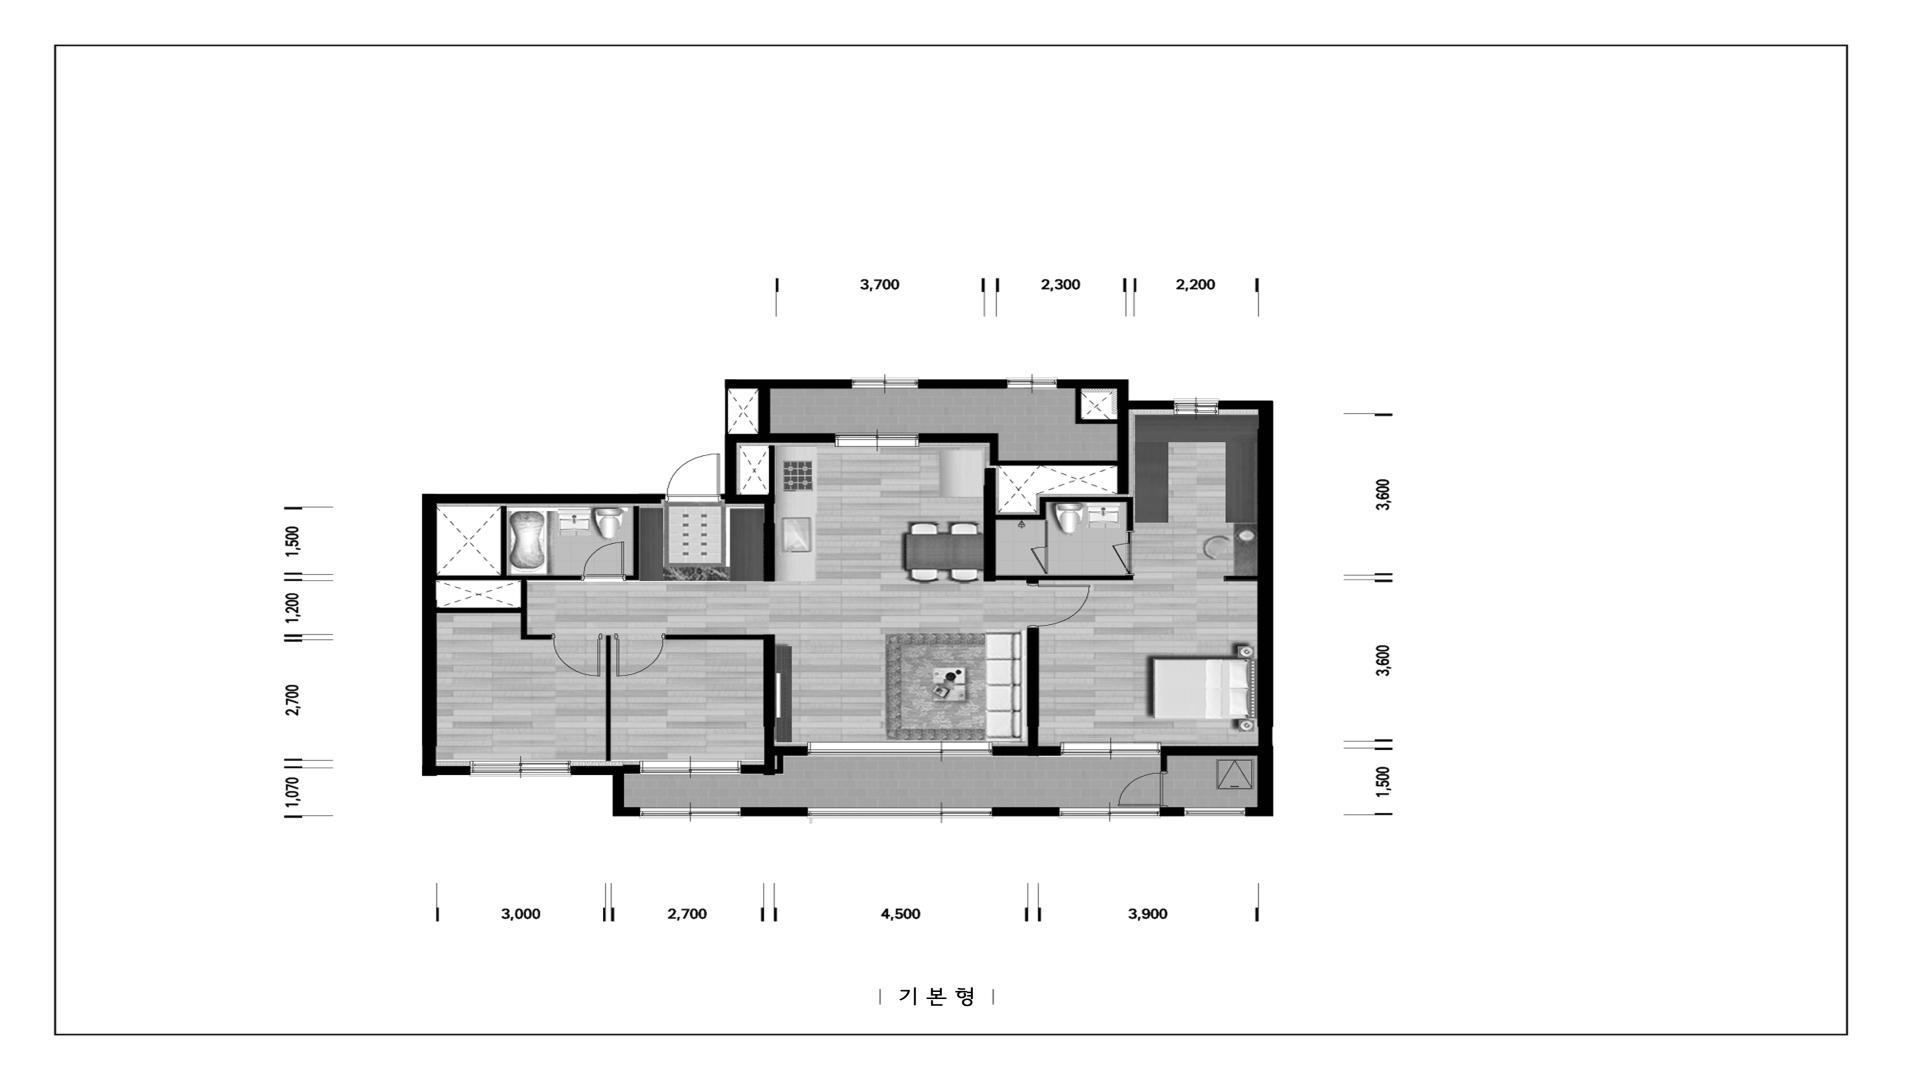door: (1027, 583, 1091, 628), (665, 454, 721, 501), (551, 633, 607, 676), (611, 633, 665, 676), (1117, 771, 1167, 807), (582, 542, 626, 582), (1112, 543, 1134, 575), (1031, 546, 1048, 574)
wall: (422, 493, 665, 775), (1218, 401, 1274, 816), (721, 380, 852, 504), (665, 634, 775, 746), (919, 433, 1117, 465), (996, 497, 1133, 543), (571, 765, 640, 816), (1058, 380, 1174, 409), (436, 580, 527, 613), (1160, 746, 1258, 771), (736, 446, 775, 504), (741, 746, 807, 775), (1075, 388, 1117, 425), (1027, 628, 1039, 746), (984, 468, 996, 582), (996, 575, 1134, 583), (1117, 409, 1129, 495), (626, 506, 640, 580), (918, 378, 1006, 389), (764, 504, 774, 582), (521, 613, 551, 640), (436, 575, 582, 580), (770, 433, 835, 443), (605, 636, 611, 761), (993, 746, 1060, 756), (741, 807, 807, 816), (993, 807, 1059, 816), (501, 506, 506, 575), (1159, 807, 1184, 816), (775, 756, 783, 774), (1044, 521, 1048, 546)
window: (807, 741, 993, 756), (807, 807, 993, 818), (469, 761, 571, 777), (640, 761, 741, 775), (1060, 741, 1160, 756), (835, 433, 919, 447), (640, 807, 741, 818), (1059, 807, 1159, 818), (852, 377, 918, 389), (1174, 398, 1218, 415), (1006, 377, 1058, 389), (1184, 807, 1245, 816)
